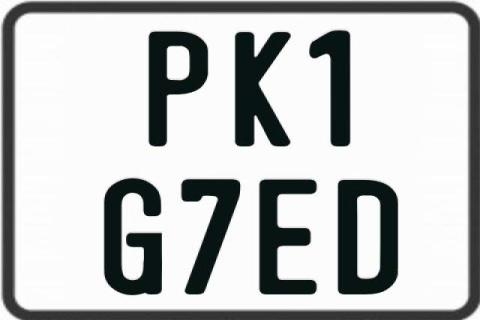0: (181, 179, 242, 296), (309, 30, 352, 146)
D: (338, 178, 402, 294)
E: (256, 179, 314, 299)
G: (103, 176, 162, 297)
K: (233, 31, 293, 147)
P: (149, 30, 209, 150)
